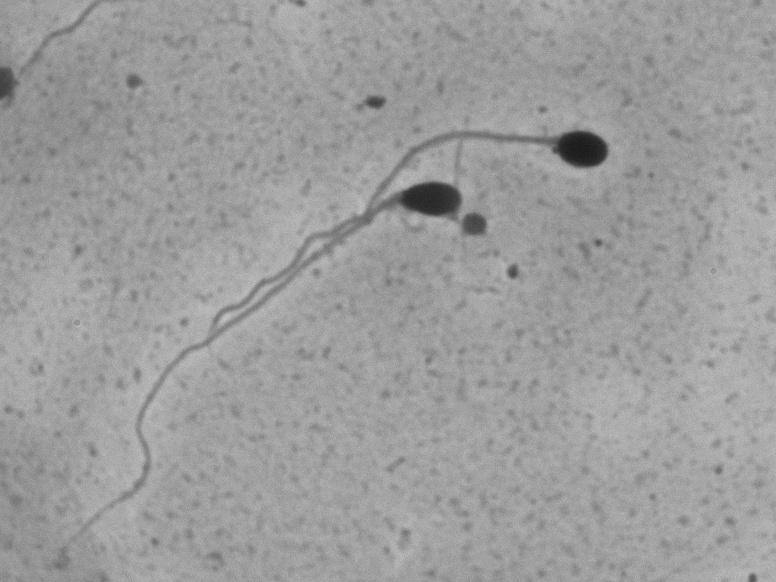Abnormal: (368, 82, 641, 176)
Normal: (53, 177, 488, 560)
